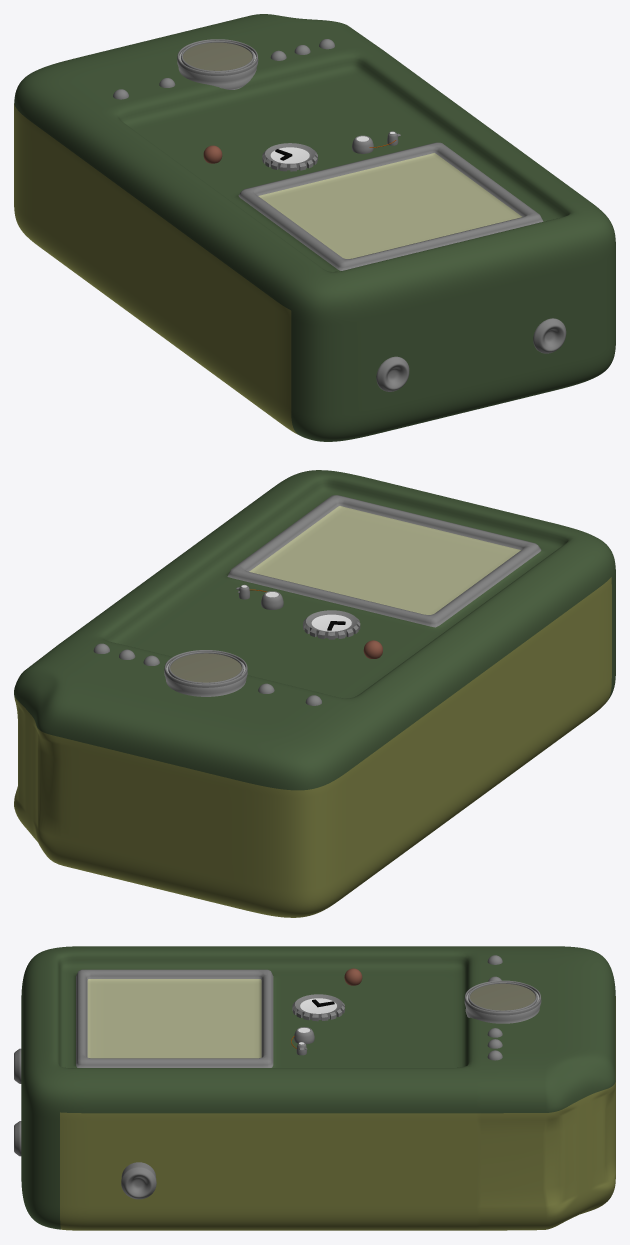
The model's file is Tracker.fbx.
3 renders of one model, top to bottom at view 1: azimuth 30°, elevation 25°; view 2: azimuth 150°, elevation 25°; view 3: azimuth 270°, elevation 25°, orthographic. The views are drawn at different scales.
Parts seen in each view (by area): view 1: Body4; view 2: Body4; view 3: Body4.
Boxes of the visible parts, <box> form: Body4: <box>14,14,615,441</box>; Body4: <box>14,470,615,917</box>; Body4: <box>14,946,615,1230</box>.
Size of the model in its own units: 2.11 by 1.07 by 3.4.
